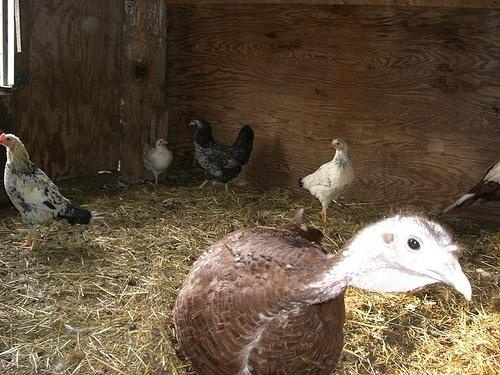bird: (174, 210, 474, 371), (1, 132, 93, 250), (188, 116, 256, 199), (299, 139, 356, 221), (444, 162, 500, 222), (144, 140, 173, 188)
